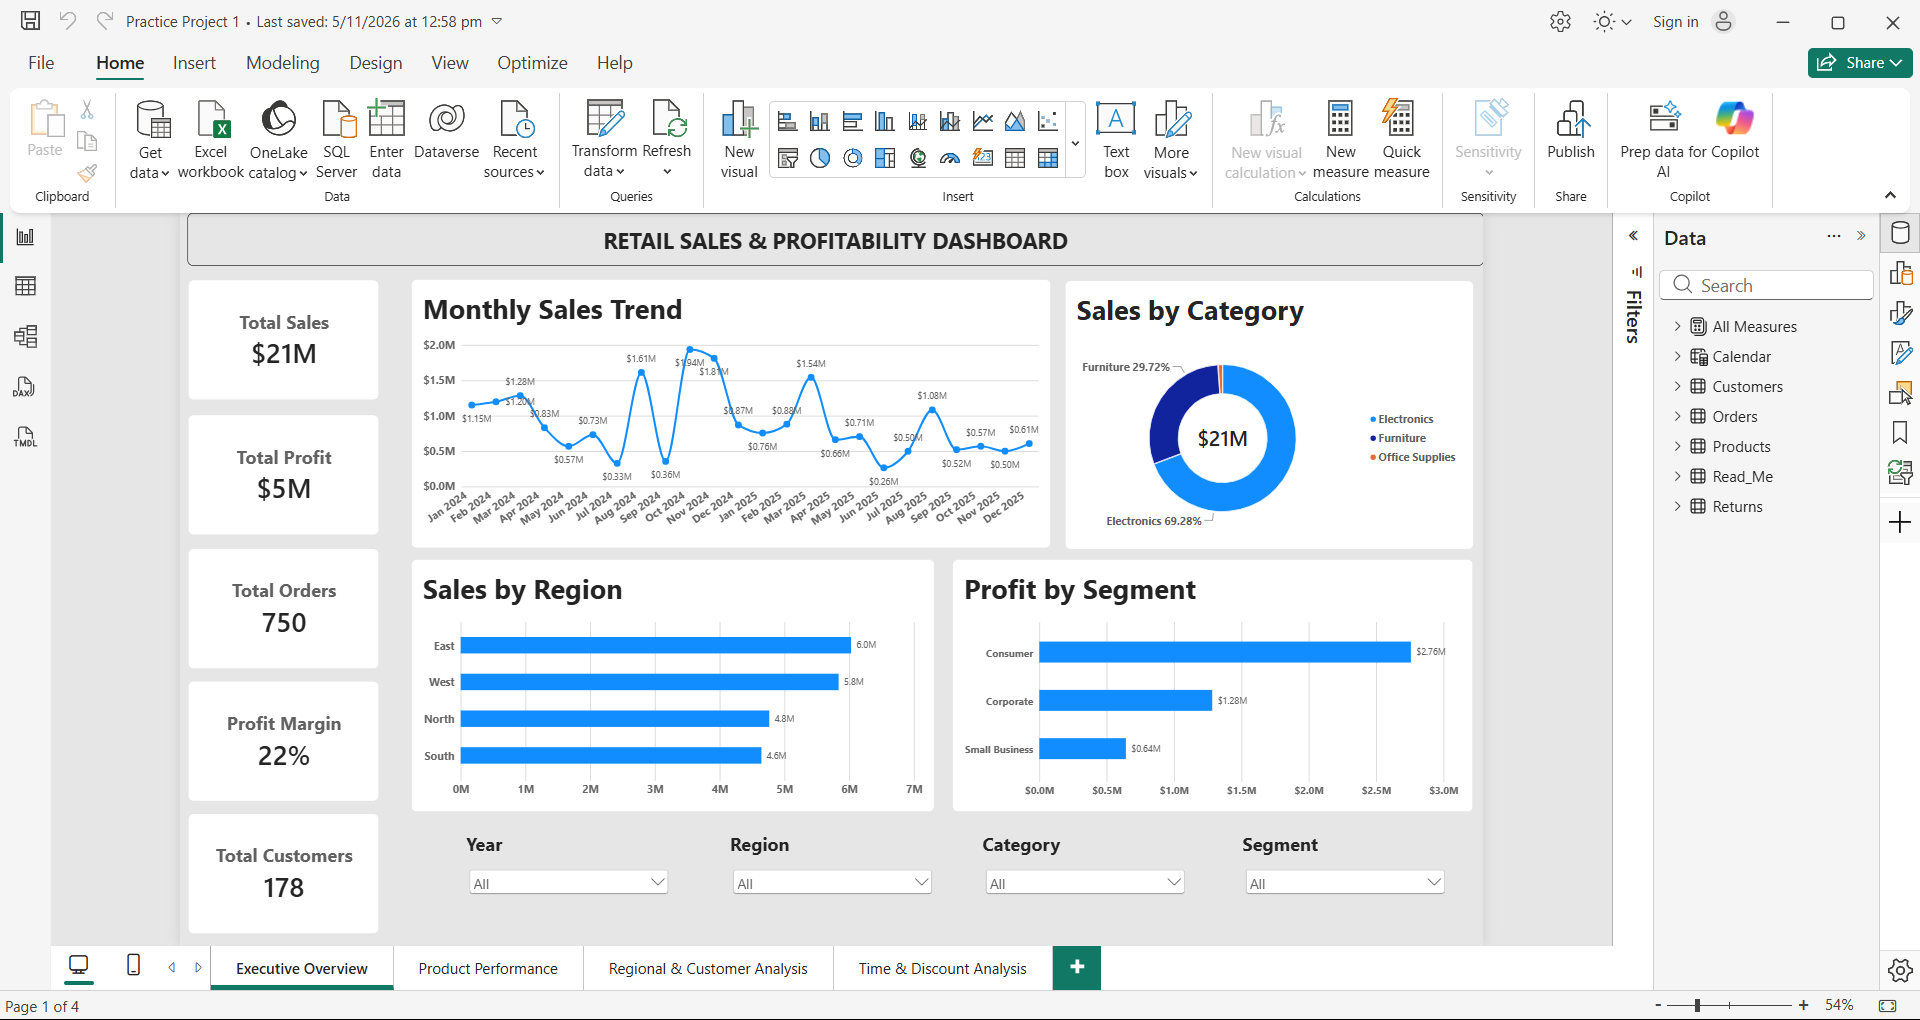

This screenshot's page, from the dashboard's own definition file:
{"tool":"powerbi","page":{"name":"Executive Overview","canvas":[1920,1080],"ordinal":0},"visuals":[{"type":"textbox","box":[10.8,0,1908.8,77.9],"z":0},{"type":"cardVisual","title":"Total Sales","fields":{"Data":["All Measures.Total Sales"]},"box":[10.8,97.4,283.5,179.6],"z":1000},{"type":"cardVisual","title":"Total Sales","fields":{"Data":["All Measures.Total Profit"]},"box":[10.8,296.5,283.5,179.6],"z":2000},{"type":"cardVisual","title":"Total Sales","fields":{"Data":["All Measures.Total Orders"]},"box":[10.8,493.4,283.5,179.6],"z":3000},{"type":"cardVisual","title":"Total Sales","fields":{"Data":["All Measures.Profit Margin"]},"box":[10.8,688.2,283.5,179.6],"z":4000},{"type":"cardVisual","title":"Total Sales","fields":{"Data":["All Measures.Total Customers"]},"box":[10.8,883,283.5,179.6],"z":5000},{"type":"lineChart","title":"Monthly Sales Trend","fields":{"Category":["Calendar.Month Year"],"Y":["All Measures.Total Sales"]},"box":[339.8,97.4,941.4,396],"z":6000},{"type":"clusteredBarChart","title":"Sales by Region","fields":{"Category":["Orders.Region"],"Y":["Sum(Orders.NetSales)"]},"box":[339.8,510.7,770.4,372.2],"z":7000},{"type":"donutChart","title":"Sales by Category","fields":{"Category":["Products.Category"],"Y":["All Measures.Total Sales"]},"box":[1302.8,99.6,601.6,396],"z":8000},{"type":"clusteredBarChart","title":"Profit by Segment","fields":{"Category":["Customers.Segment"],"Y":["All Measures.Total Profit"]},"box":[1138.3,510.7,766.1,372.2],"z":9000},{"type":"slicer","title":"Year","fields":{"Values":["Calendar.Year"]},"box":[422,911.1,303,125.5],"z":10000},{"type":"slicer","title":"Region","fields":{"Values":["Orders.Region"]},"box":[809.4,911.1,303,125.5],"z":11000},{"type":"slicer","title":"Category","fields":{"Values":["Products.Category"]},"box":[1181.6,911.1,303,125.5],"z":12000},{"type":"slicer","title":"Segment","fields":{"Values":["Customers.Segment"]},"box":[1564.7,911.1,303,125.5],"z":13000}]}

Visuals, with their boxes on the page's 1920x1080 design canvas (x1, y1, x2, y2). These are canvas units, not pixel positions in the 1920x1020 screenshot, which may show the page scaled, cropped or inside an application window:
textbox: 11:0:1920:78
"Total Sales" cardVisual: 11:97:294:277
"Total Sales" cardVisual: 11:296:294:476
"Total Sales" cardVisual: 11:493:294:673
"Total Sales" cardVisual: 11:688:294:868
"Total Sales" cardVisual: 11:883:294:1063
"Monthly Sales Trend" lineChart: 340:97:1281:493
"Sales by Region" clusteredBarChart: 340:511:1110:883
"Sales by Category" donutChart: 1303:100:1904:496
"Profit by Segment" clusteredBarChart: 1138:511:1904:883
"Year" slicer: 422:911:725:1037
"Region" slicer: 809:911:1112:1037
"Category" slicer: 1182:911:1485:1037
"Segment" slicer: 1565:911:1868:1037
